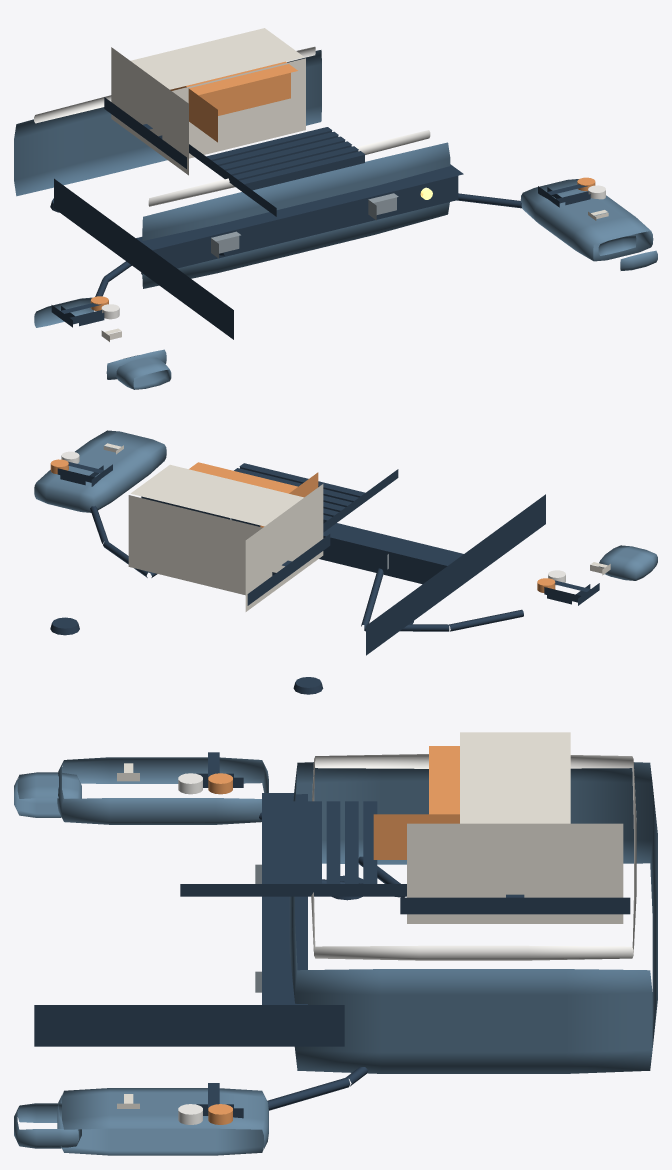
The model's file is model-console-02.glb.
3 renders of one model, top to bottom at view 1: azimuth 30°, elevation 25°; view 2: azimuth 150°, elevation 25°; view 3: azimuth 270°, elevation 25°, orthographic. The views are drawn at different scales.
Parts seen in each view (by area): view 1: 主机本体, 前面板, 卡带, 手柄右外壳, 卡带标签, 顶盖面板, 散热槽6, 散热槽3, 手柄左握把, 手柄左外壳, 散热槽4, 卡槽 (+7 smaller); view 2: 卡带, 前面板, 手柄右外壳, 手柄左握把, 手柄左线缆, 卡带标签, 卡槽, 散热槽6, 散热槽5, 手柄左十字键, 手柄右十字键, 手柄右线缆 (+3 smaller); view 3: 主机本体, 卡带, 前面板, 手柄右外壳, 手柄左外壳, 顶盖面板, 卡槽, 卡带标签, 散热槽1, 手柄左握把, 手柄右握把, 散热槽2 (+5 smaller).
Boxes of the visible parts, <box> form: 主机本体: <box>14,50,450,288</box>; 前面板: <box>54,164,463,339</box>; 卡带: <box>111,28,305,175</box>; 手柄右外壳: <box>520,179,653,261</box>; 卡带标签: <box>170,61,297,142</box>; 顶盖面板: <box>34,46,430,206</box>; 散热槽6: <box>239,151,365,216</box>; 散热槽3: <box>189,136,345,202</box>; 手柄左握把: <box>116,355,171,389</box>; 手柄左外壳: <box>34,297,166,379</box>; 散热槽4: <box>207,141,351,207</box>; 卡槽: <box>104,97,186,168</box>; 卡带: <box>128,464,323,611</box>; 前面板: <box>141,494,545,655</box>; 手柄右外壳: <box>34,430,166,512</box>; 手柄左握把: <box>599,545,657,580</box>; 手柄左线缆: <box>361,568,523,631</box>; 卡带标签: <box>189,462,318,527</box>; 卡槽: <box>247,534,330,605</box>; 散热槽6: <box>239,463,398,497</box>; 散热槽5: <box>234,468,391,530</box>; 手柄左十字键: <box>544,580,599,605</box>; 手柄右十字键: <box>57,461,112,486</box>; 手柄右线缆: <box>90,506,157,577</box>; 主机本体: <box>289,762,657,1073</box>; 卡带: <box>407,732,623,923</box>; 前面板: <box>34,793,344,1046</box>; 手柄右外壳: <box>57,1088,268,1155</box>; 手柄左外壳: <box>57,757,268,824</box>; 顶盖面板: <box>311,754,636,960</box>; 卡槽: <box>400,894,630,914</box>; 卡带标签: <box>373,746,459,859</box>; 散热槽1: <box>272,801,406,896</box>; 手柄左握把: <box>14,772,81,817</box>; 手柄右握把: <box>14,1103,81,1148</box>; 散热槽2: <box>254,801,406,896</box>.
Bounding box in the file's own units: 0.386 × 0.094 × 0.2798.
